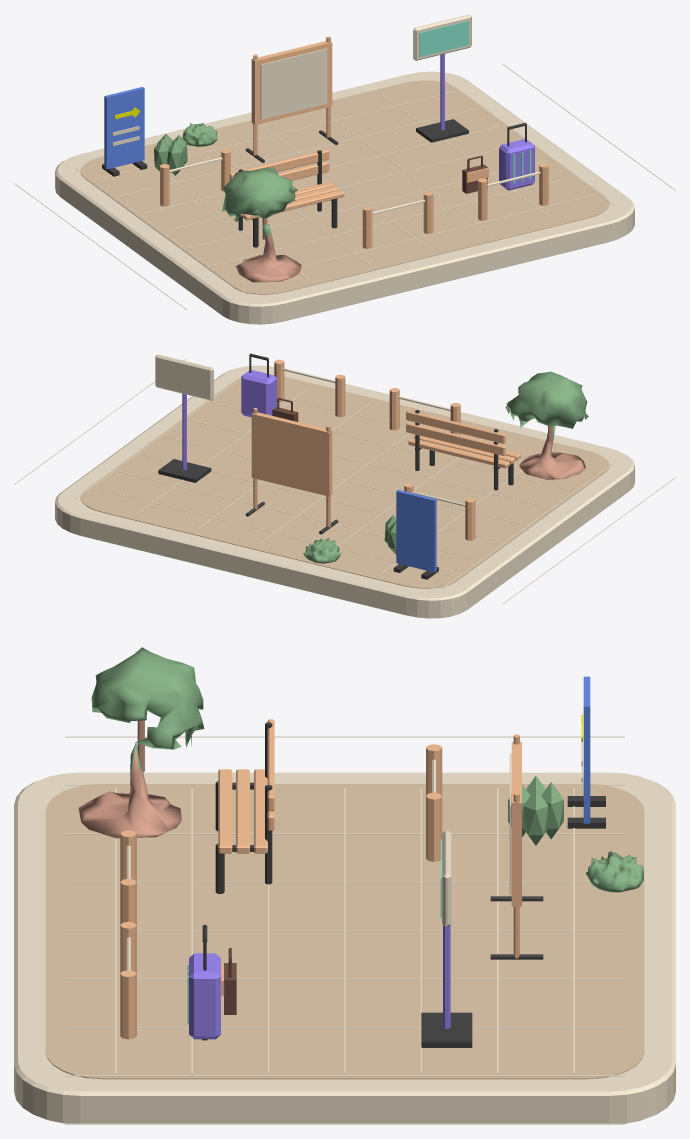
Rendered from room.fbx.
3 renders of one model, top to bottom at view 1: azimuth 30°, elevation 25°; view 2: azimuth 150°, elevation 25°; view 3: azimuth 270°, elevation 25°, orthographic. The views are drawn at different scales.
Visible parts, largest first — view 1: COM-02 Floor Surface, COM-01 Rounded Base Direct, 잎이 넓은 작은 나무, Art surface, Panel, Frame, Shell, Inset, Sign panel, Foot.002, Back slat.001, 넓은 잎 풀 포기 (+3 smaller); view 2: COM-02 Floor Surface, COM-01 Rounded Base Direct, Frame, 잎이 넓은 작은 나무, Panel, Sign panel, Shell, Back slat, Back slat.001, Seat slat.002, Foot.002, 넓은 잎 풀 포기 (+4 smaller); view 3: COM-02 Floor Surface, COM-01 Rounded Base Direct, 잎이 넓은 작은 나무, Shell, 넓은 잎 풀 포기, Frame, Foot.002, Seat slat, Seat slat.001, Panel, Boundary post.003, Boundary post.005 (+16 smaller).
Part boxes in pixels (box(x1,y1,x2,y2)): COM-02 Floor Surface: box(80, 80, 609, 294); COM-01 Rounded Base Direct: box(55, 71, 634, 324); 잎이 넓은 작은 나무: box(222, 167, 301, 282); Art surface: box(260, 48, 327, 119); Panel: box(104, 87, 144, 169); Frame: box(251, 41, 332, 124); Shell: box(499, 139, 534, 190); Inset: box(419, 20, 469, 56); Sign panel: box(413, 14, 471, 60); Foot.002: box(416, 119, 468, 142); Back slat.001: box(229, 149, 329, 180); 넓은 잎 풀 포기: box(182, 123, 217, 146); COM-02 Floor Surface: box(80, 375, 609, 588); COM-01 Rounded Base Direct: box(55, 365, 634, 618); Frame: box(251, 412, 332, 496); 잎이 넓은 작은 나무: box(505, 371, 588, 479); Panel: box(396, 490, 436, 572); Sign panel: box(155, 354, 213, 400); Shell: box(241, 370, 276, 417); Back slat: box(406, 422, 505, 455); Back slat.001: box(406, 410, 505, 443); Seat slat.002: box(408, 438, 509, 468); Foot.002: box(158, 459, 211, 482); 넓은 잎 풀 포기: box(303, 537, 341, 563); COM-02 Floor Surface: box(45, 784, 644, 1079); COM-01 Rounded Base Direct: box(14, 772, 675, 1123); 잎이 넓은 작은 나무: box(78, 647, 204, 838); Shell: box(189, 953, 220, 1039); 넓은 잎 풀 포기: box(585, 851, 643, 892); Frame: box(511, 741, 521, 906); Foot.002: box(421, 1012, 472, 1047); Seat slat: box(218, 769, 232, 853); Seat slat.001: box(236, 769, 249, 853); Panel: box(583, 676, 590, 823); Boundary post.003: box(120, 970, 136, 1039); Boundary post.005: box(426, 792, 442, 861).
Size of the model in its own units: 721 by 187 by 520.
